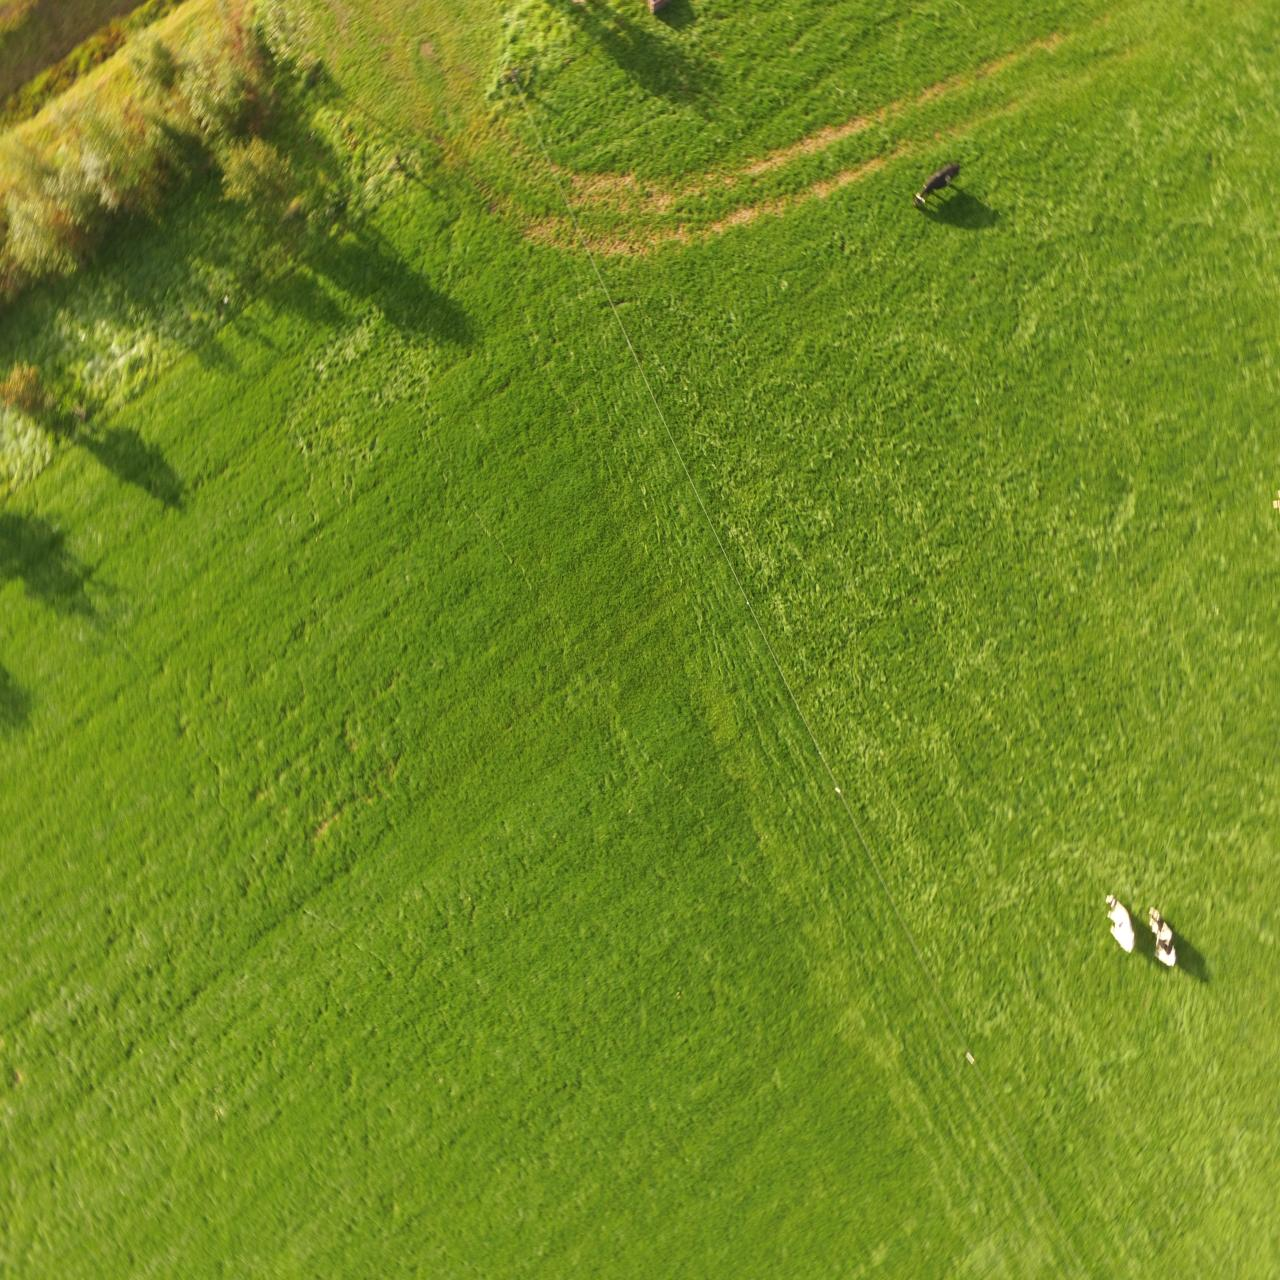cow: (910, 156, 961, 210), (1146, 900, 1180, 972), (1103, 890, 1138, 956)
